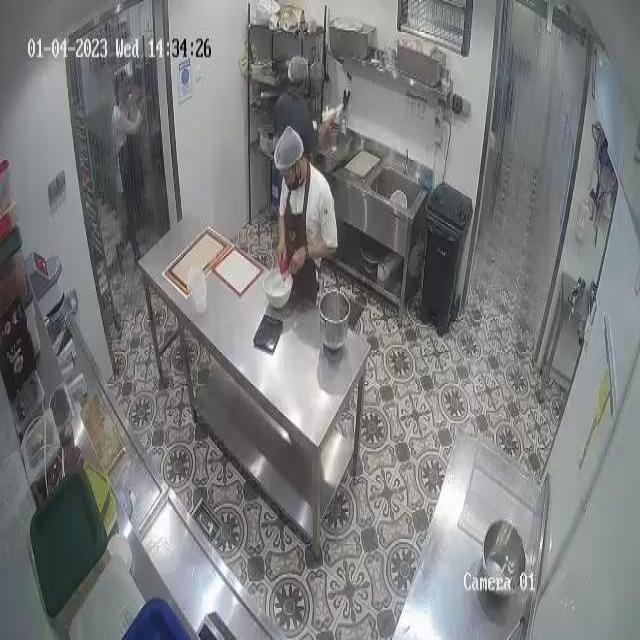hairnet: (275, 128, 305, 168), (287, 60, 310, 86)
